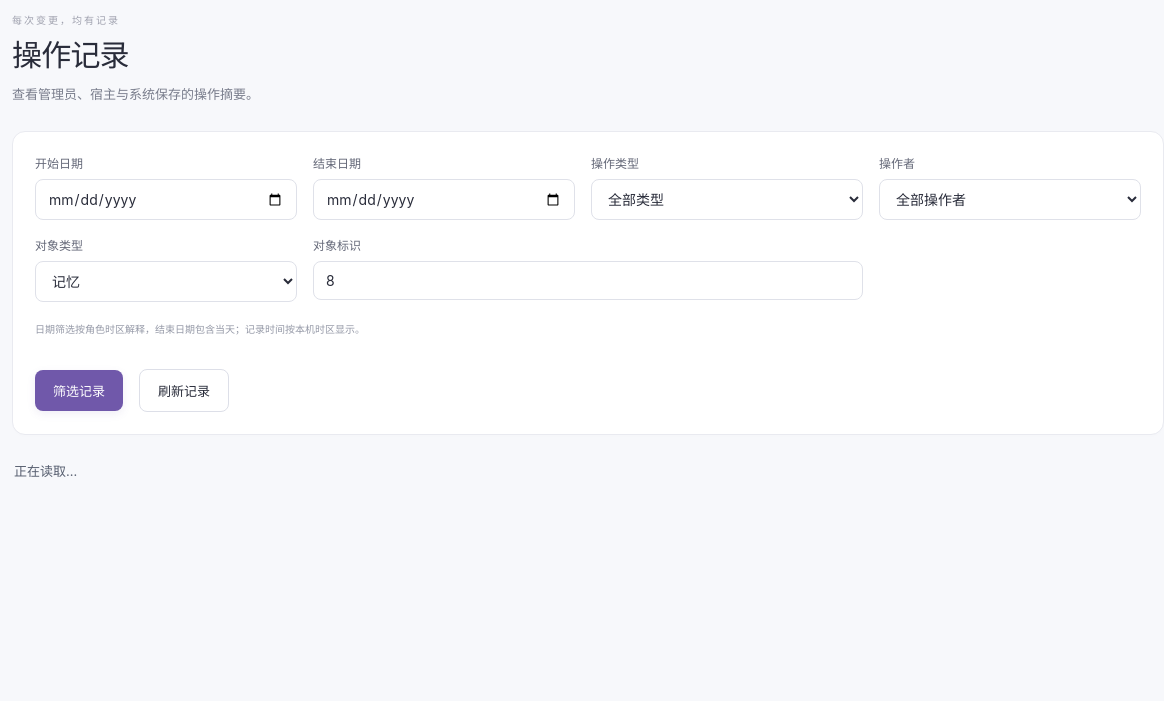
Test: 倒置日期不发查询，来自记忆详情的对象筛选可直接使用
Step 1. Type "2026-10-10" into the date field labelled "开始日期" → [166, 200], box [35,179,297,220]
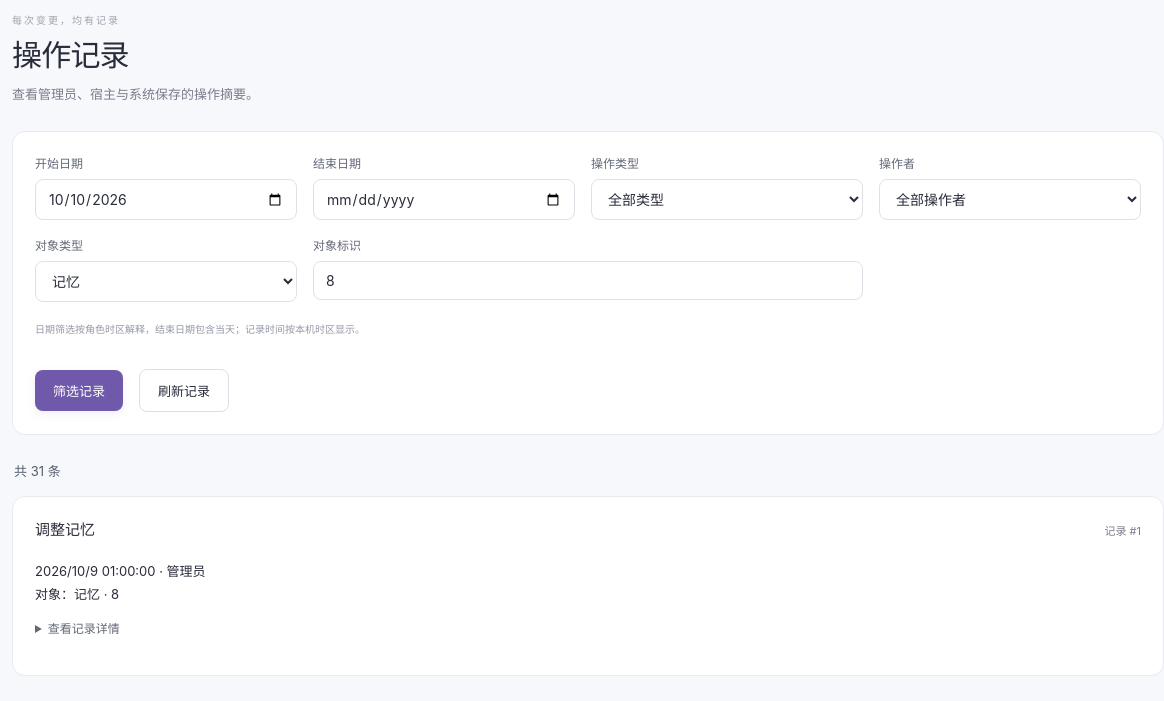
Step 2. Type "2026-10-01" into the date field labelled "结束日期" → [444, 200], box [313,179,575,220]
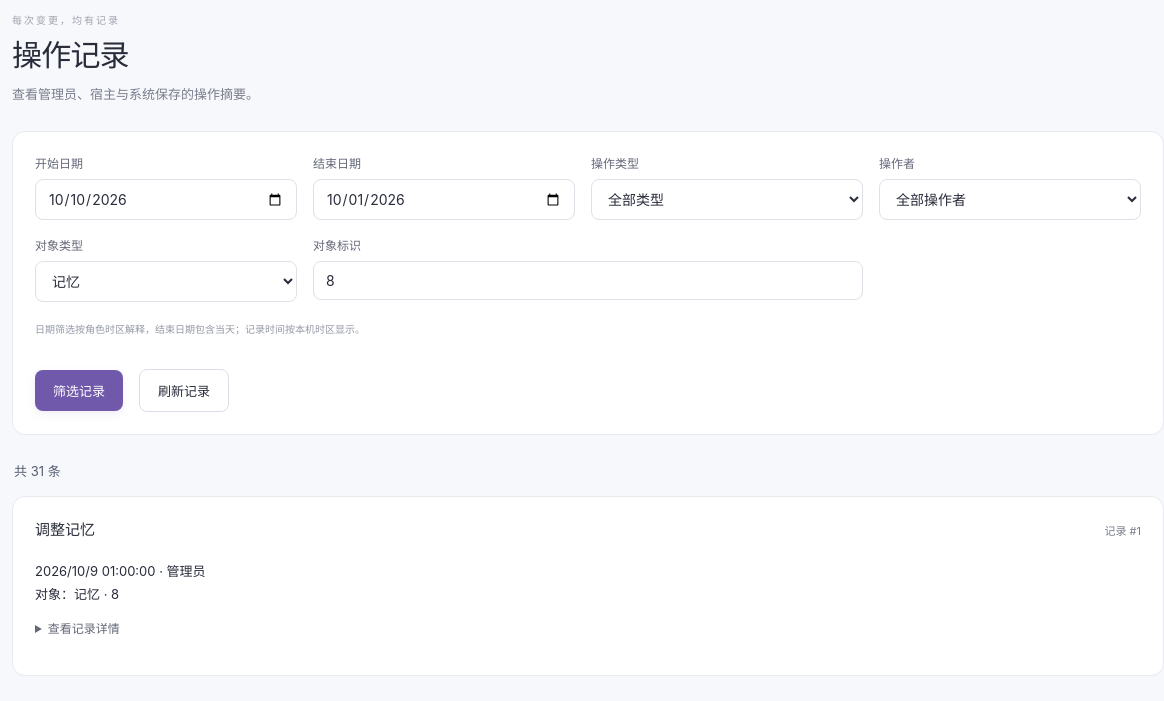
Step 3. Click the button "筛选记录" → [79, 390], box [35,370,123,411]
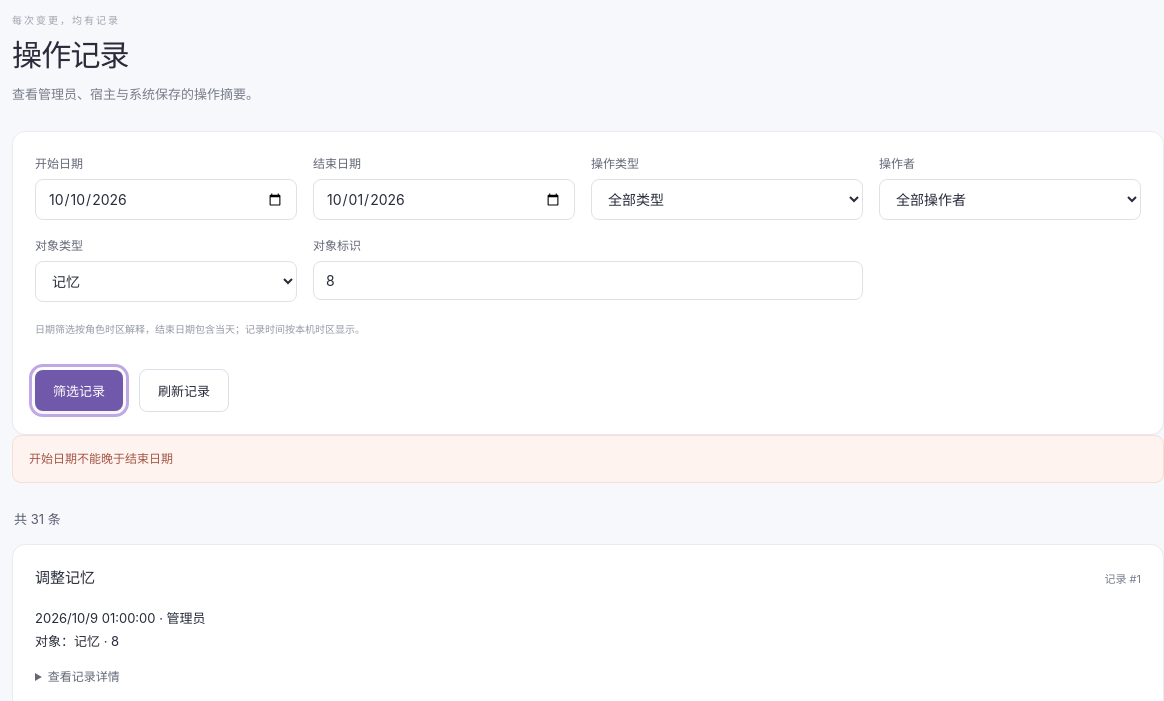
Expected: the message reads "开始日期不能晚于结束日期", [29,451,173,466]
